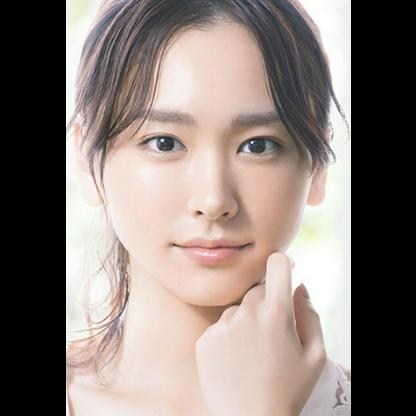Female: (74, 18, 328, 302)
